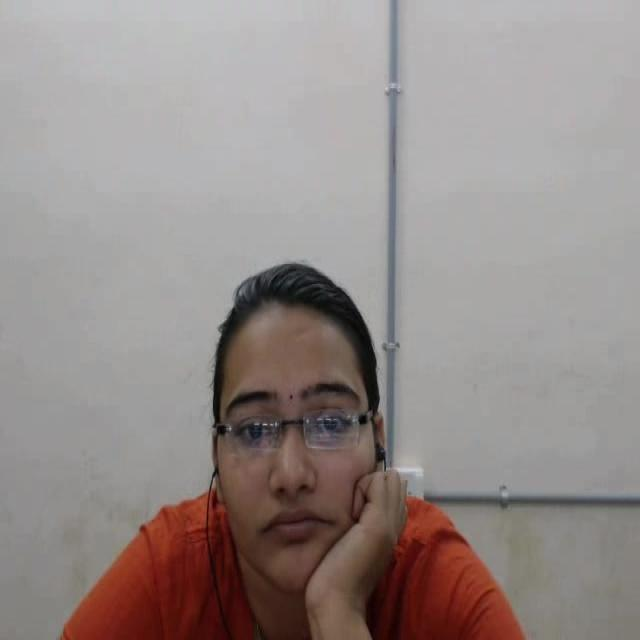Bored: (156, 245, 436, 634)
